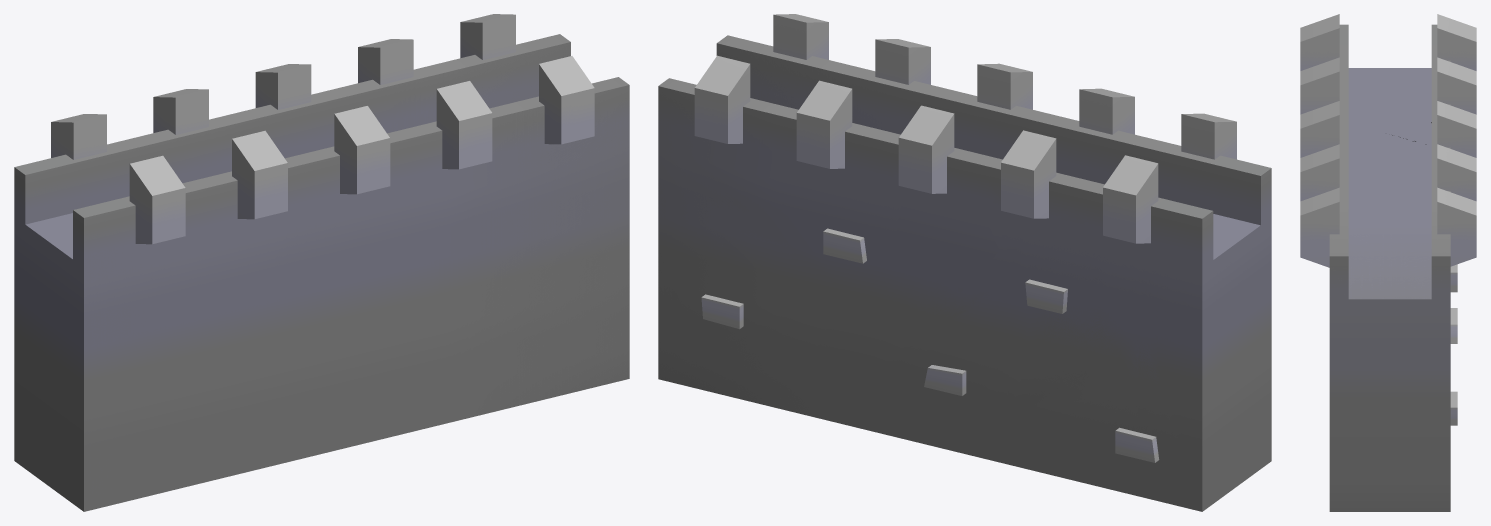
File: Wall.fbx
3 renders of one model, left to right at view 1: azimuth 30°, elevation 25°; view 2: azimuth 150°, elevation 25°; view 3: azimuth 270°, elevation 25°, orthographic. The views are drawn at different scales.
Parts seen in each view (by area): view 1: Wall, Wall2, Wall4, Phase5_Rubble1, Phase5_Rubble2, Wall5, Phase2_Rubble; view 2: Wall2, Wall, Wall4, Wall3, Phase5_Rubble1, Wall5, Phase5_Rubble2, Phase3_Rubble, Phase2_Rubble, Phase4_Rubble; view 3: Wall, Wall2, Phase5_Rubble2, Phase5_Rubble1, Wall5, Phase2_Rubble.
Boxes of the visible parts, left/top/right/bottom form: Wall: left=14, top=14, right=629, bottom=511; Wall2: left=14, top=43, right=629, bottom=509; Wall4: left=84, top=135, right=629, bottom=510; Phase5_Rubble1: left=422, top=14, right=629, bottom=422; Phase5_Rubble2: left=14, top=89, right=319, bottom=511; Wall5: left=209, top=39, right=494, bottom=442; Phase2_Rubble: left=229, top=64, right=350, bottom=171; Wall2: left=658, top=87, right=1271, bottom=511; Wall: left=658, top=14, right=1271, bottom=493; Wall4: left=658, top=136, right=1199, bottom=510; Wall3: left=659, top=166, right=1202, bottom=511; Phase5_Rubble1: left=658, top=14, right=930, bottom=425; Wall5: left=769, top=63, right=1061, bottom=435; Phase5_Rubble2: left=891, top=88, right=1271, bottom=492; Phase3_Rubble: left=993, top=216, right=1142, bottom=406; Phase2_Rubble: left=878, top=108, right=999, bottom=292; Phase4_Rubble: left=675, top=238, right=853, bottom=416; Wall: left=1300, top=14, right=1476, bottom=511; Wall2: left=1331, top=26, right=1450, bottom=511; Phase5_Rubble2: left=1300, top=14, right=1476, bottom=144; Phase5_Rubble1: left=1300, top=144, right=1476, bottom=299; Wall5: left=1300, top=101, right=1476, bottom=227; Phase2_Rubble: left=1431, top=115, right=1475, bottom=162.
Size of the model in its own units: 8 by 4.64 by 2.57.
Materials: 1 (1 with a texture image).
